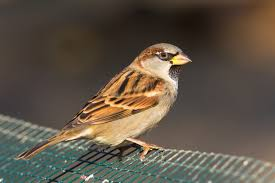hsparrow: (21, 41, 199, 172)
